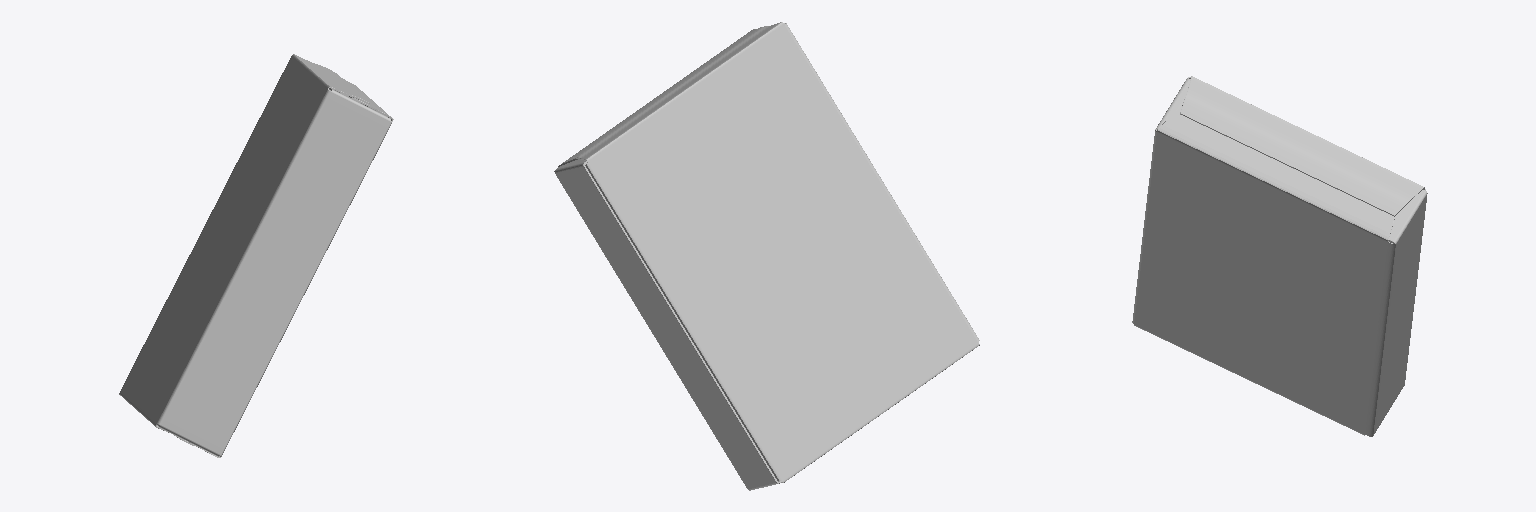
File: box_of_cereal_xyz_4.obj
3 views of the same model, side by side, from view 1: azimuth 30°, elevation 25°; view 2: azimuth 150°, elevation 25°; view 3: azimuth 270°, elevation 25° (orthographic).
Parts seen in each view (by area): view 1: Box_Box_Box_Box_of_cerealCOL_jpg.001; view 2: Box_Box_Box_Box_of_cerealCOL_jpg.001; view 3: Box_Box_Box_Box_of_cerealCOL_jpg.001.
Boxes of the visible parts, x1,y1,x2,y2 form: Box_Box_Box_Box_of_cerealCOL_jpg.001: [119, 54, 393, 457]; Box_Box_Box_Box_of_cerealCOL_jpg.001: [554, 22, 979, 490]; Box_Box_Box_Box_of_cerealCOL_jpg.001: [1132, 76, 1427, 436].
Size of the model in its own units: 0.237 by 0.2825 by 0.1943.